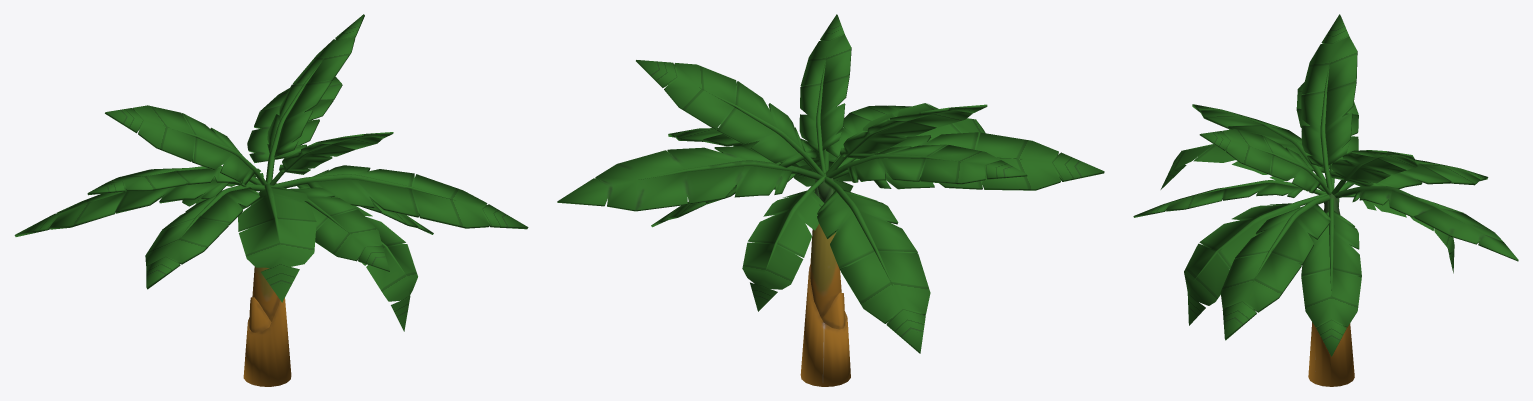
Rendered from PohonPisang.fbx.
3 views of the same model, side by side, from view 1: azimuth 30°, elevation 25°; view 2: azimuth 150°, elevation 25°; view 3: azimuth 270°, elevation 25° (orthographic). The views are drawn at different scales.
Visible parts, largest first — view 1: Circle.004; view 2: Circle.004; view 3: Circle.004.
Part boxes in pixels (x1,y1,x2,y2): Circle.004: (14, 14, 528, 386); Circle.004: (557, 14, 1104, 386); Circle.004: (1133, 14, 1518, 386).
Size of the model in its own units: 373 by 269 by 324.
